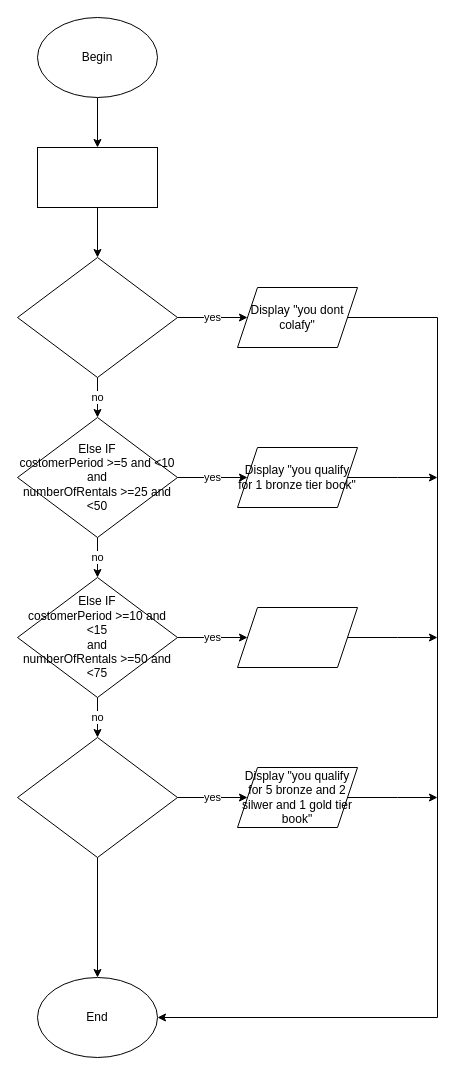
Image size: 463x1075. Some labels were removed from this diagram. The centre of each missing label's shape, as x and y in pixels:
Display "you qualify for 3 bronze and 1 silwer tier book": (x=297, y=637)
Else IF costomerPeriod >=15 and numberOfRentals >=75: (x=97, y=797)
Function MagicalBoneses: (x=97, y=177)
IF costomerPeriod >=10 and numberOfRentals >=50 and <50: (x=97, y=317)
